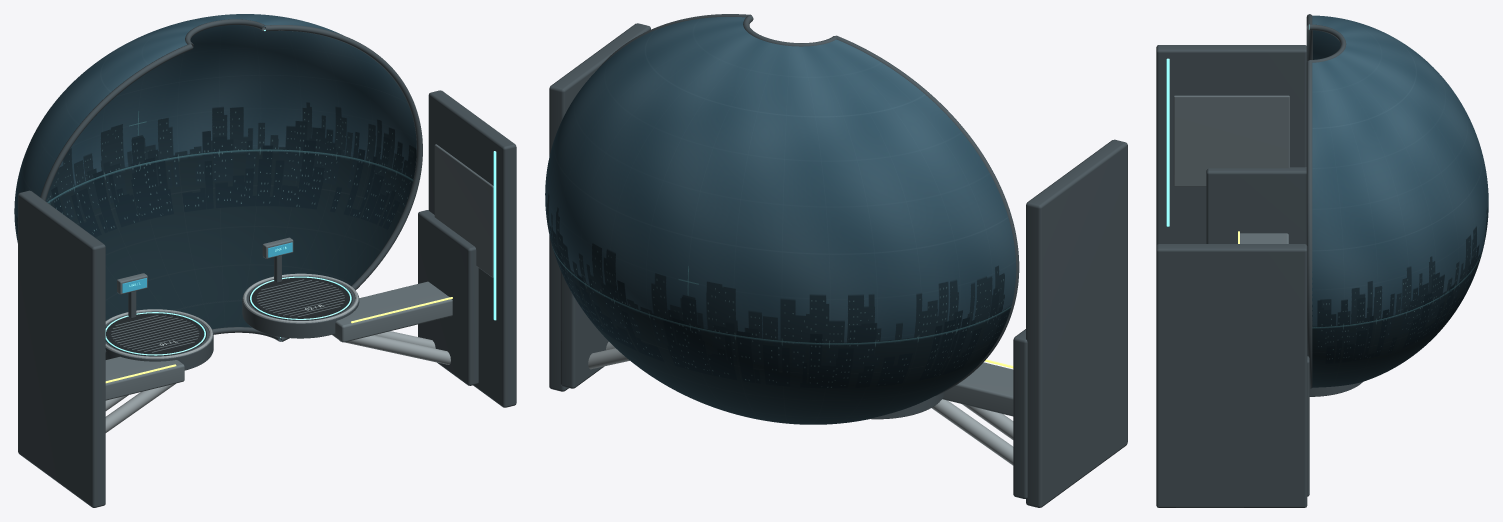
Rendered from Anseong_Cockpit_C_SideDome.fbx.
The picture shows the model from 3 angles, left to right: view 1: azimuth 30°, elevation 25°; view 2: azimuth 150°, elevation 25°; view 3: azimuth 270°, elevation 25°; orthographic projection. The views are drawn at different scales.
Visible parts, largest first — view 1: 10_Display, 09_Hull, 01_Deck, 03_Station_R, 02_Station_L, 04_Console_L, 05_Console_R; view 2: 10_Display, 09_Hull, 01_Deck; view 3: 09_Hull, 10_Display, 01_Deck.
Part boxes in pixels (<box>): 10_Display: <box>14,14,422,352</box>; 09_Hull: <box>18,90,516,507</box>; 01_Deck: <box>105,210,478,432</box>; 03_Station_R: <box>249,276,352,320</box>; 02_Station_L: <box>105,312,206,356</box>; 04_Console_L: <box>117,273,147,318</box>; 05_Console_R: <box>262,237,293,282</box>; 10_Display: <box>545,14,1019,424</box>; 09_Hull: <box>549,23,1127,507</box>; 01_Deck: <box>560,271,1027,498</box>; 09_Hull: <box>1156,45,1307,507</box>; 10_Display: <box>1306,14,1488,388</box>; 01_Deck: <box>1206,167,1362,496</box>.
Size of the model in its own units: 6.12 by 5.05 by 4.18.
